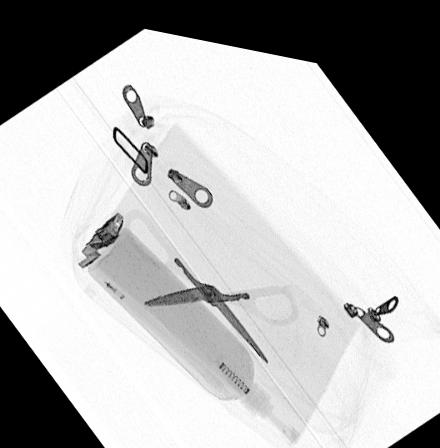Scissors: (120, 202, 299, 355)
